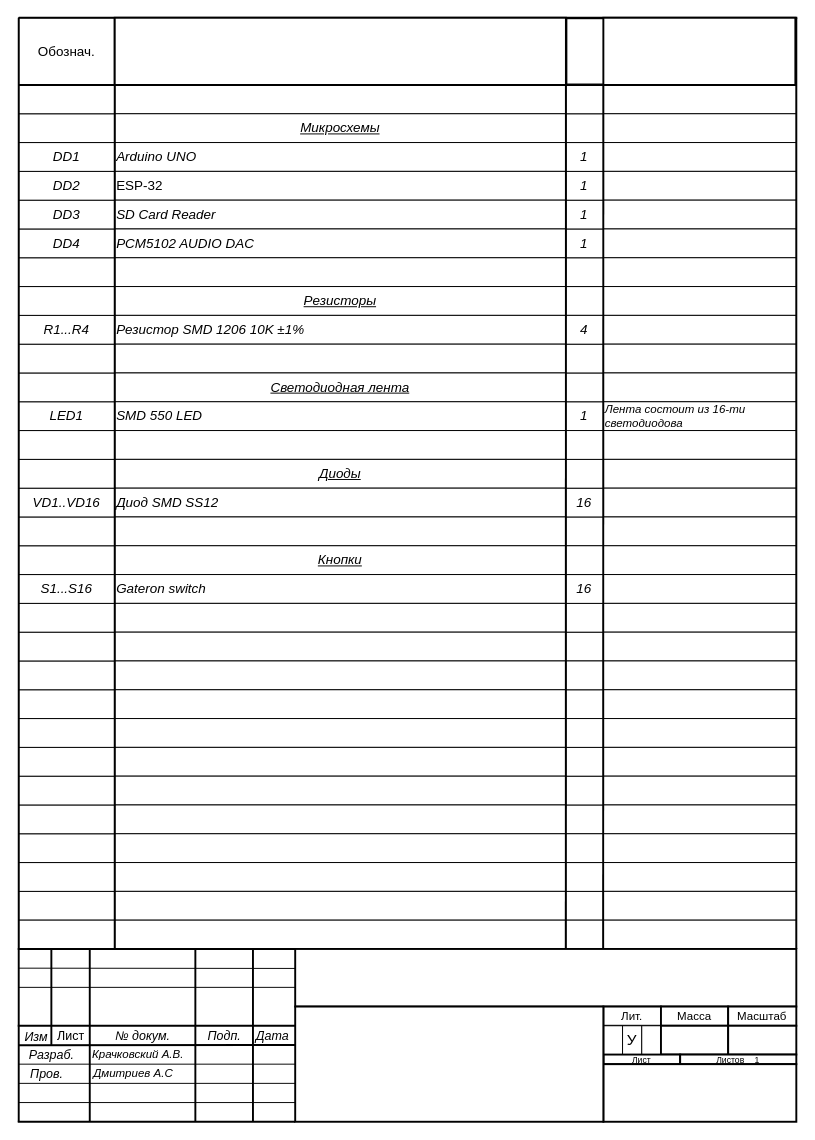
Image size: 815x1140. Some labels were removed from this diagram. The shapes that lost their labels are listed below. From the top down, each one's centre as x and y in pixels, then its label:
At pixel 339 50: "Наименование".
At pixel 586 51: "Кол.".
At pixel 699 50: "Примечание".
At pixel 545 977: "ГУИР.400201.211 ПЭ3".
At pixel 449 1063: "Музыкальный пад Перечень элементов".
At pixel 699 1092: "ЭВМ, гр 050502".
